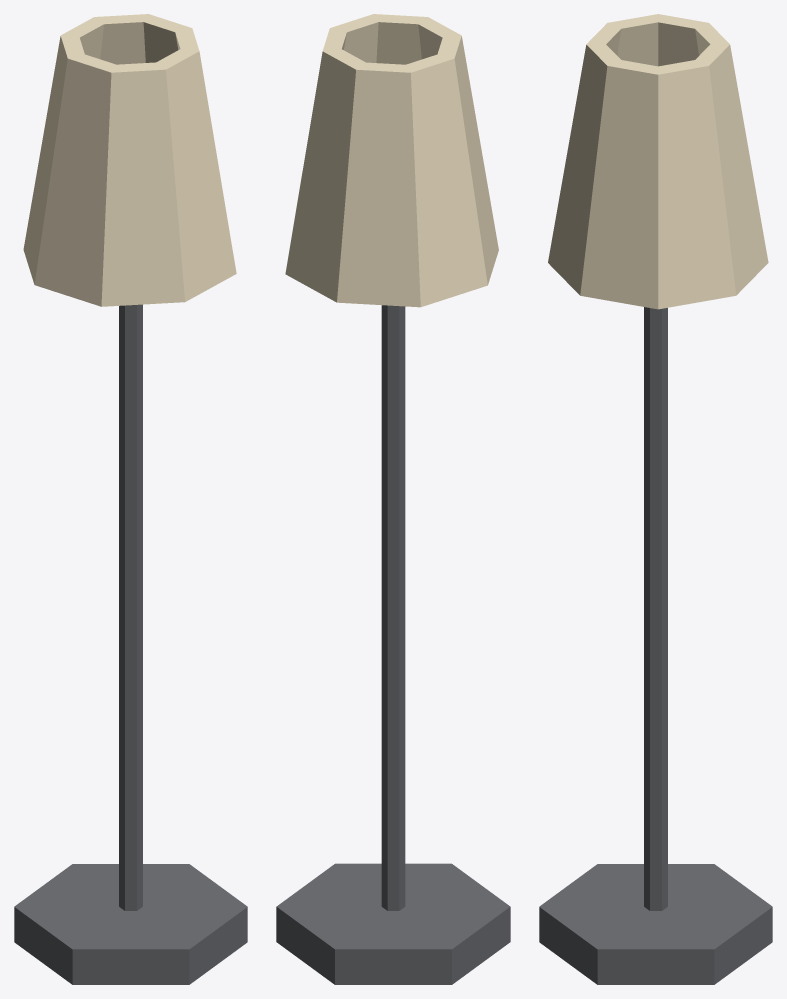
The model's file is Lamp.glb.
The picture shows the model from 3 angles, left to right: view 1: azimuth 30°, elevation 25°; view 2: azimuth 150°, elevation 25°; view 3: azimuth 270°, elevation 25°; orthographic projection.
Bounding box in the file's own units: 0.2313 × 1.04 × 0.2449.
